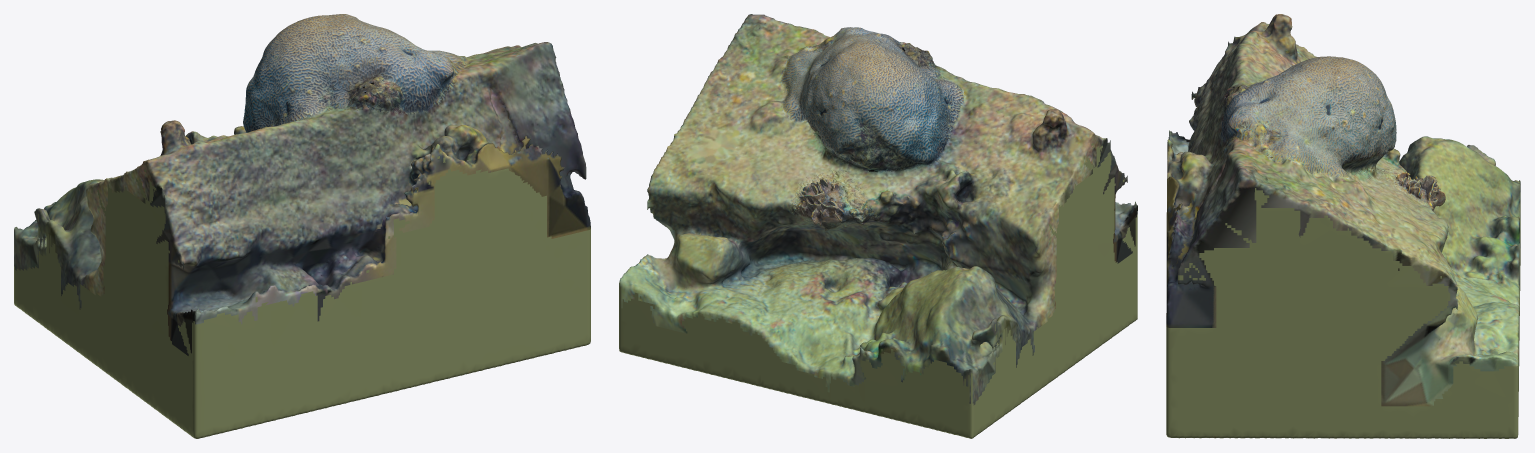
Rendered from brain_coral_on_a_rock.glb.
3 views of the same model, side by side, from view 1: azimuth 30°, elevation 25°; view 2: azimuth 150°, elevation 25°; view 3: azimuth 270°, elevation 25° (orthographic). The views are drawn at different scales.
Parts seen in each view (by area): view 1: qqman_braincor011_low; view 2: qqman_braincor011_low; view 3: qqman_braincor011_low.
Boxes of the visible parts, x1=… form: qqman_braincor011_low: x1=14, y1=14, x2=590, y2=438; qqman_braincor011_low: x1=619, y1=14, x2=1137, y2=438; qqman_braincor011_low: x1=1166, y1=14, x2=1520, y2=438.
Bounding box in the file's own units: 0.5564 × 0.4094 × 0.4485.
Materials: 4 (3 with a texture image).
